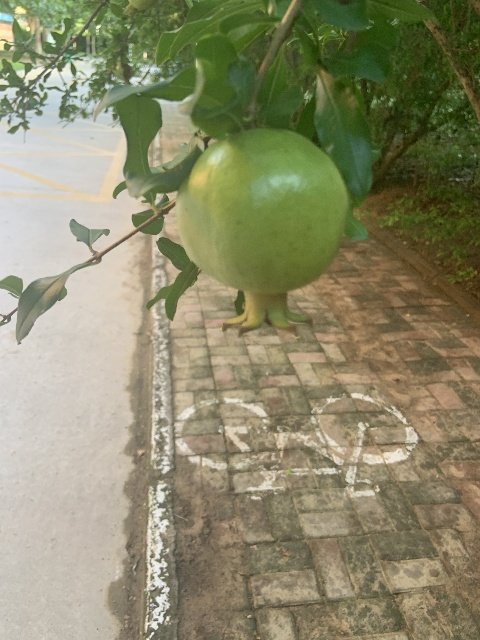mid-growth: (176, 129, 350, 337)
